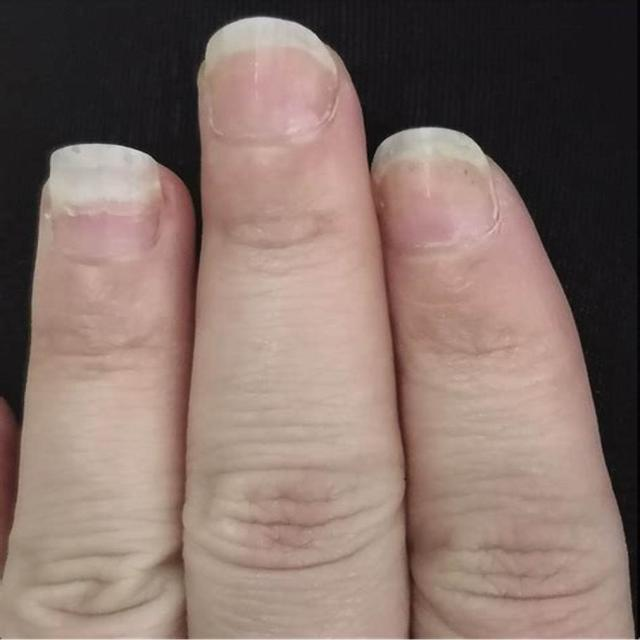Fingernail: (205, 18, 337, 141), (372, 128, 496, 249), (46, 145, 161, 261)
